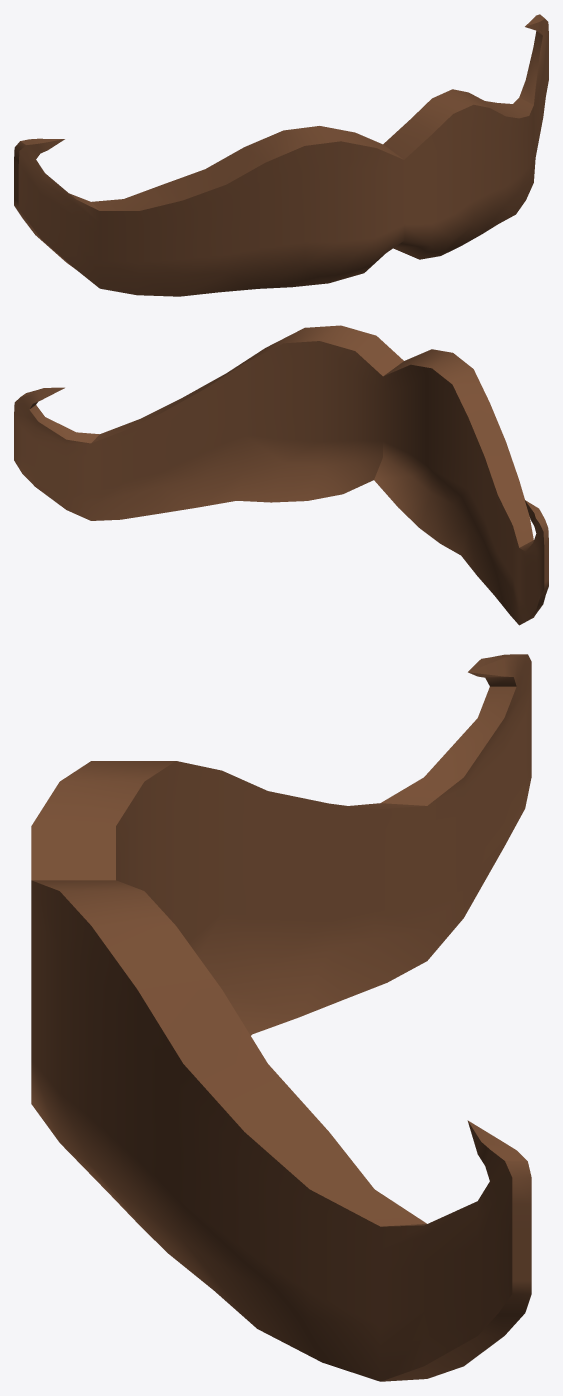
Rendered from Mouse_Stache.fbx.
The picture shows the model from 3 angles, top to bottom: view 1: azimuth 30°, elevation 25°; view 2: azimuth 150°, elevation 25°; view 3: azimuth 270°, elevation 25°; orthographic projection. The views are drawn at different scales.
Visible parts, largest first — view 1: pCube2; view 2: pCube2; view 3: pCube2.
Boxes of the visible parts, bbox=[...] form: pCube2: bbox=[14, 14, 548, 296]; pCube2: bbox=[14, 325, 548, 625]; pCube2: bbox=[31, 654, 531, 1381].
Bounding box in the file's own units: 0.3259 × 0.0988 × 0.1332.
